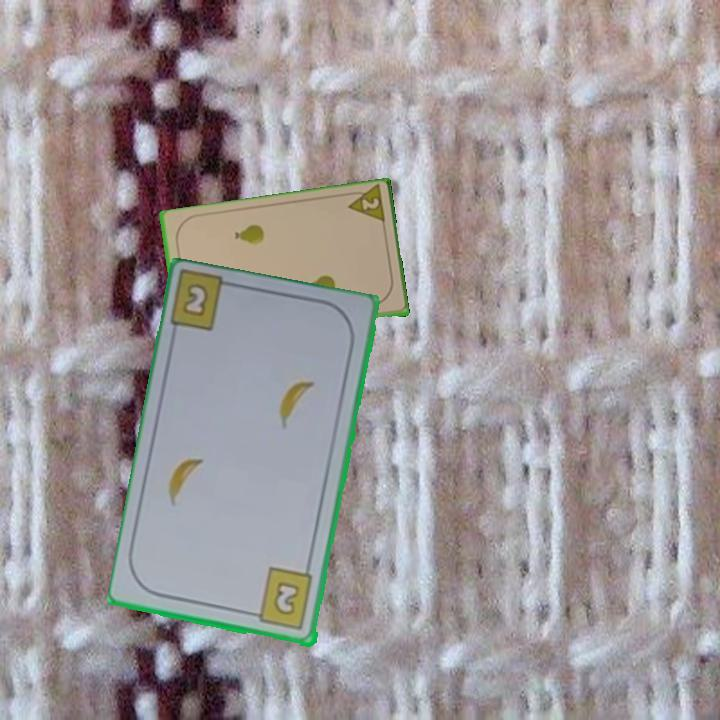2b: (247, 565, 316, 633), (179, 280, 212, 320)
2p: (341, 183, 387, 228)
